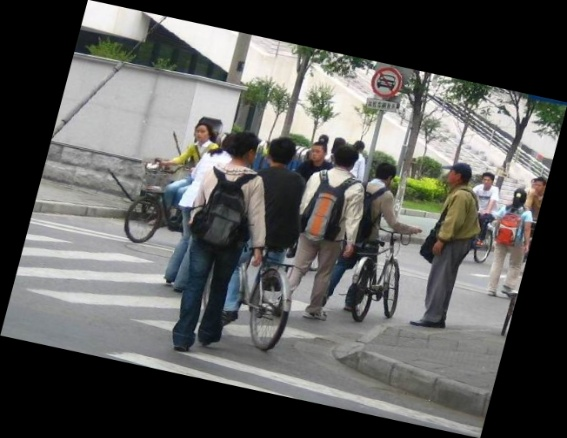person: (186, 116, 250, 411), (444, 98, 510, 322), (307, 114, 367, 340), (367, 120, 441, 251), (519, 115, 567, 261), (142, 115, 185, 263)
